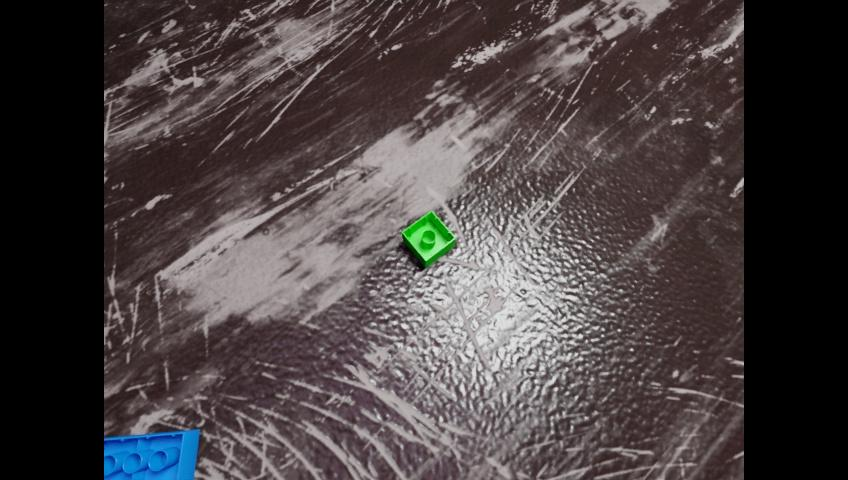2x2_green: (401, 210, 455, 267)
4x2_blue: (104, 428, 199, 480)
